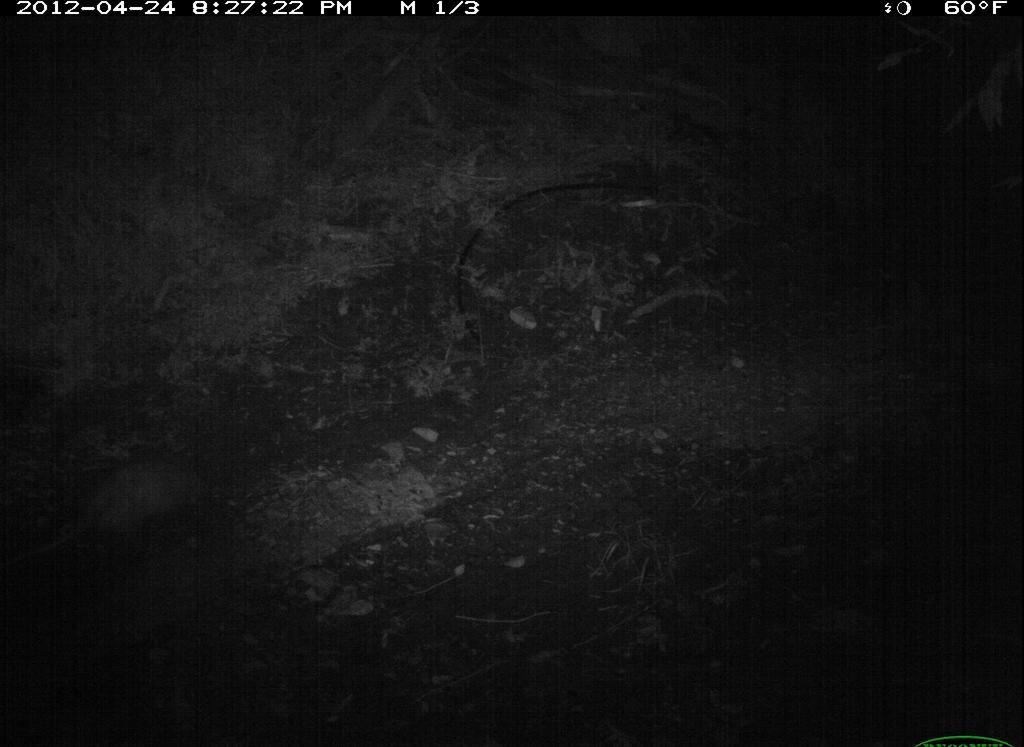opossum: (2, 438, 233, 578)
